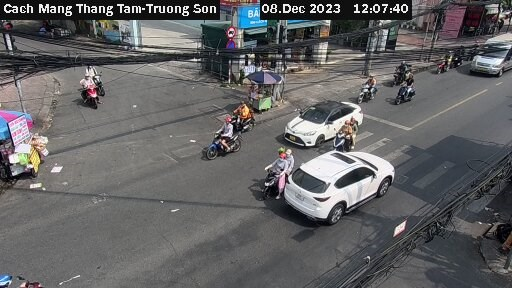car: (287, 146, 393, 222), (287, 100, 363, 146), (471, 34, 510, 76)
motorbike: (204, 120, 245, 162), (254, 153, 291, 193), (227, 98, 263, 128), (77, 77, 103, 111), (332, 121, 360, 151), (395, 78, 424, 106), (349, 73, 378, 100), (390, 59, 416, 83)
